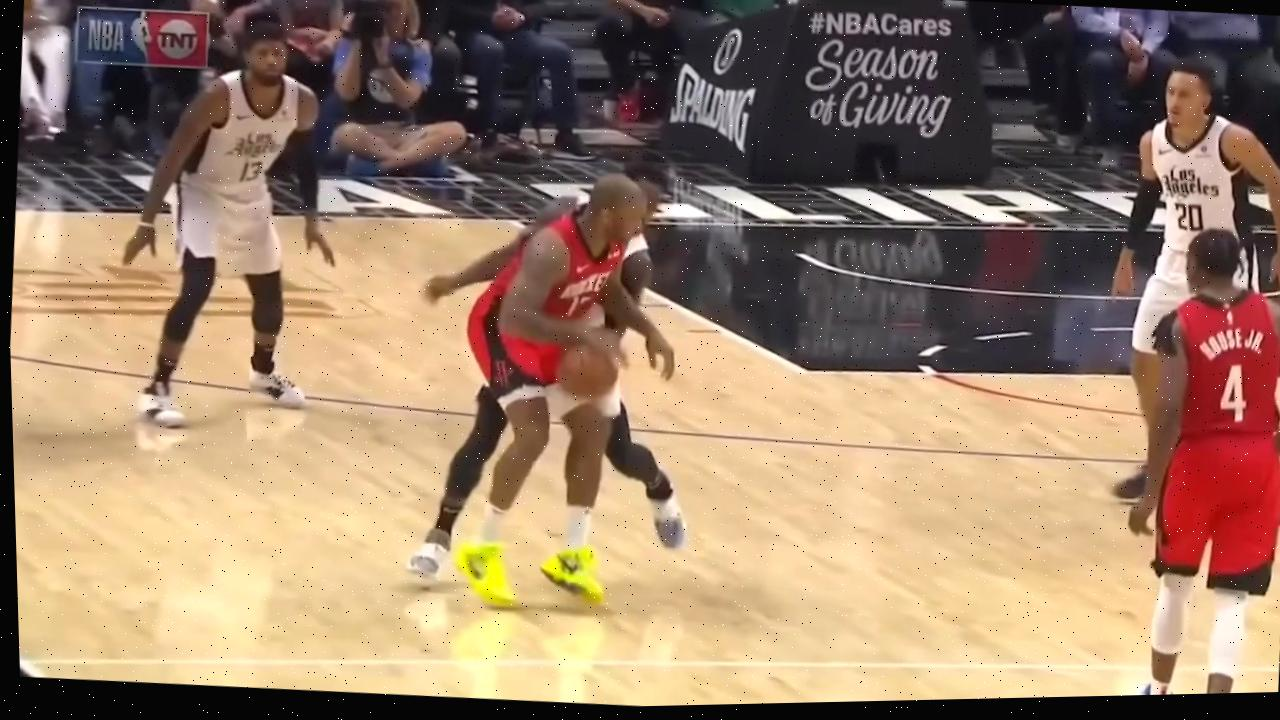foul: (379, 143, 741, 632)
